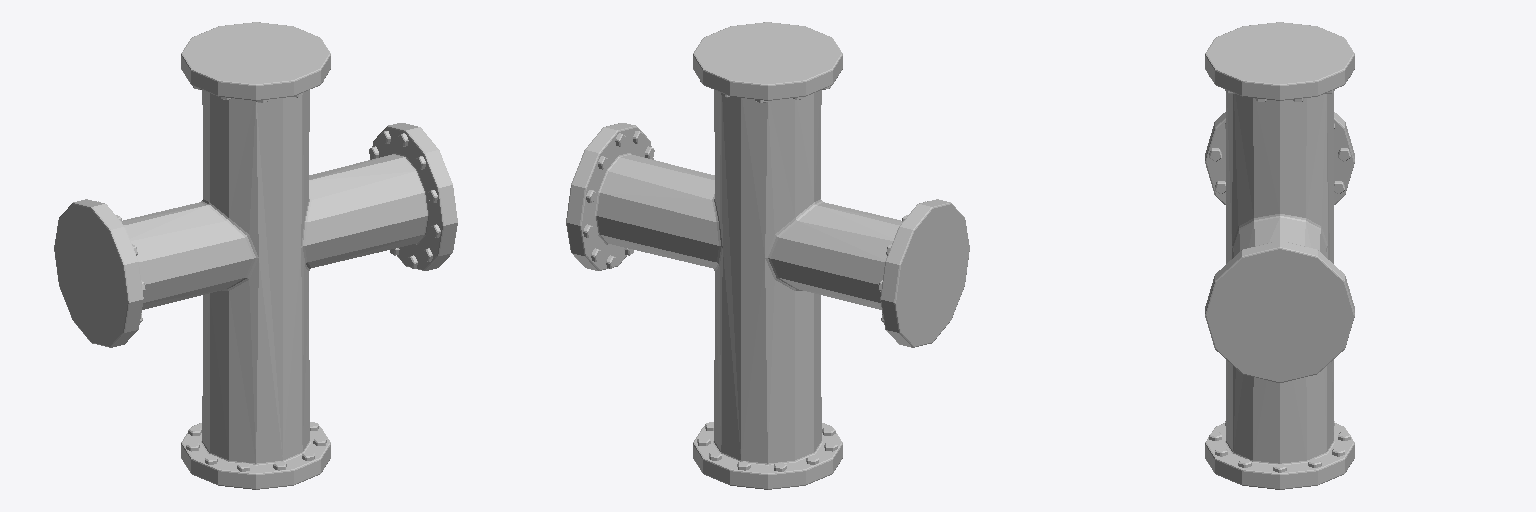
File: cross.obj
3 renders of one model, left to right at view 1: azimuth 30°, elevation 25°; view 2: azimuth 150°, elevation 25°; view 3: azimuth 270°, elevation 25°, orthographic.
Visible parts, largest first — view 1: Object006.001; view 2: Object006.001; view 3: Object006.001.
Part boxes in pixels (x1,y1,x2,y2): Object006.001: (54, 22, 457, 489); Object006.001: (566, 22, 969, 489); Object006.001: (1205, 22, 1354, 489).
Size of the model in its own units: 11.25 by 13.21 by 4.44.